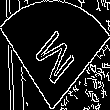M_SW: (30, 21, 80, 89)
